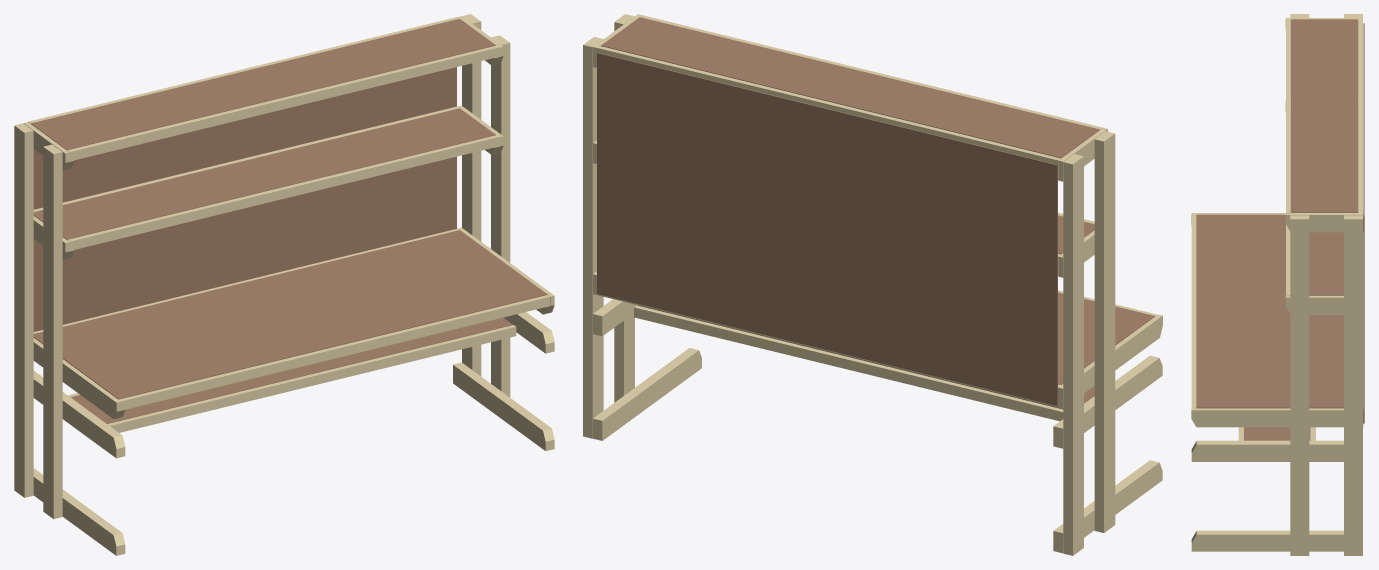
The model's file is sweethome3d-katorlegaz-desk-72.glb.
3 renders of one model, left to right at view 1: azimuth 30°, elevation 25°; view 2: azimuth 150°, elevation 25°; view 3: azimuth 270°, elevation 25°, orthographic. The views are drawn at different scales.
Visible parts, largest first — view 1: back, desktop_desktop_MDF, sides, top_shelf_top_shelf_MDF, lower_shelf_lower_shelf_MDF, desktop_desktop_Pine, top_shelf_top_shelf_Pine, lower_shelf_lower_shelf_Pine, sliding_shelf_sliding_shelf_Pine, legs, sliding_shelf_sliding_shelf_MDF, slide_supports; view 2: back, sides, top_shelf_top_shelf_MDF, top_shelf_top_shelf_Pine, sliding_shelf_sliding_shelf_Pine, legs, slide_supports, desktop_desktop_Pine, desktop_desktop_MDF; view 3: desktop_desktop_MDF, sides, top_shelf_top_shelf_MDF, desktop_desktop_Pine, top_shelf_top_shelf_Pine, legs, slide_supports, lower_shelf_lower_shelf_MDF, lower_shelf_lower_shelf_Pine, back, sliding_shelf_sliding_shelf_MDF.
Boxes of the visible parts, x1,y1,x2,y2 form: back: (33, 67, 456, 331); desktop_desktop_MDF: (33, 230, 547, 399); sides: (14, 14, 510, 519); top_shelf_top_shelf_MDF: (30, 18, 495, 150); lower_shelf_lower_shelf_MDF: (33, 108, 495, 239); desktop_desktop_Pine: (33, 227, 554, 419); top_shelf_top_shelf_Pine: (23, 16, 503, 169); lower_shelf_lower_shelf_Pine: (33, 105, 503, 259); sliding_shelf_sliding_shelf_Pine: (68, 325, 516, 432); legs: (33, 362, 554, 555); sliding_shelf_sliding_shelf_MDF: (71, 317, 512, 423); slide_supports: (33, 312, 554, 458); back: (597, 52, 1057, 405); sides: (583, 14, 1115, 555); top_shelf_top_shelf_MDF: (601, 17, 1099, 158); top_shelf_top_shelf_Pine: (593, 14, 1107, 181); sliding_shelf_sliding_shelf_Pine: (634, 305, 1063, 421); legs: (593, 348, 1162, 553); slide_supports: (593, 299, 1162, 448); desktop_desktop_Pine: (593, 271, 1162, 408); desktop_desktop_MDF: (1058, 292, 1154, 384); desktop_desktop_MDF: (1196, 214, 1343, 408); sides: (1290, 14, 1362, 555); top_shelf_top_shelf_MDF: (1291, 19, 1357, 212); desktop_desktop_Pine: (1191, 213, 1363, 427); top_shelf_top_shelf_Pine: (1285, 18, 1362, 232); legs: (1191, 530, 1343, 551); slide_supports: (1191, 440, 1343, 461); lower_shelf_lower_shelf_MDF: (1309, 232, 1343, 295); lower_shelf_lower_shelf_Pine: (1285, 101, 1358, 314); back: (1363, 23, 1364, 423); sliding_shelf_sliding_shelf_MDF: (1243, 427, 1310, 440).
Bounding box in the file's own units: 17.03 × 13.03 × 6.07.
